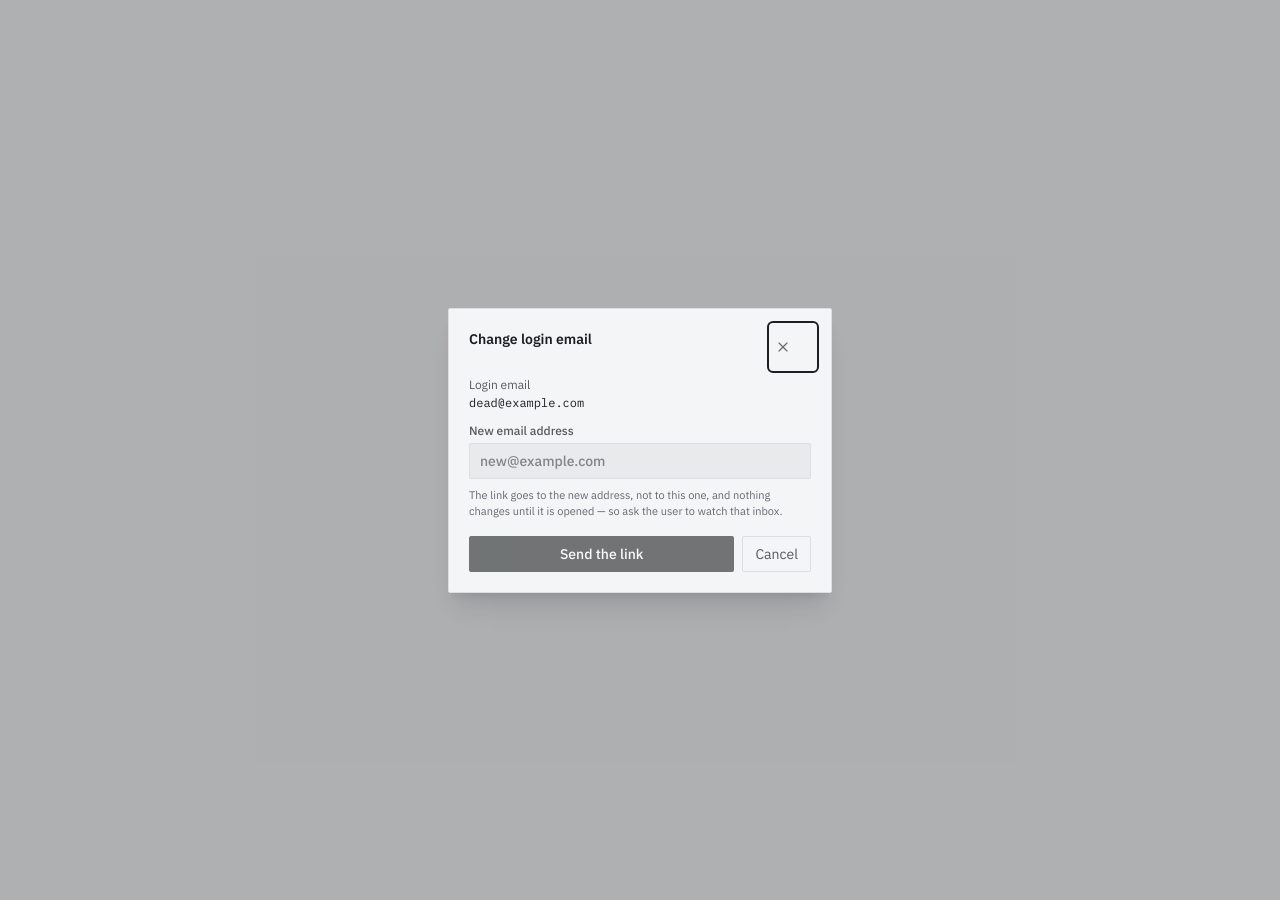
Scenario: keeps the form and the typed address when the server refuses it
The width and height of the screenshot is (1280, 900).
Type "moved@example.com" into the field with test id "change-email-input" at x=640, y=460, box [469,442,811,478]
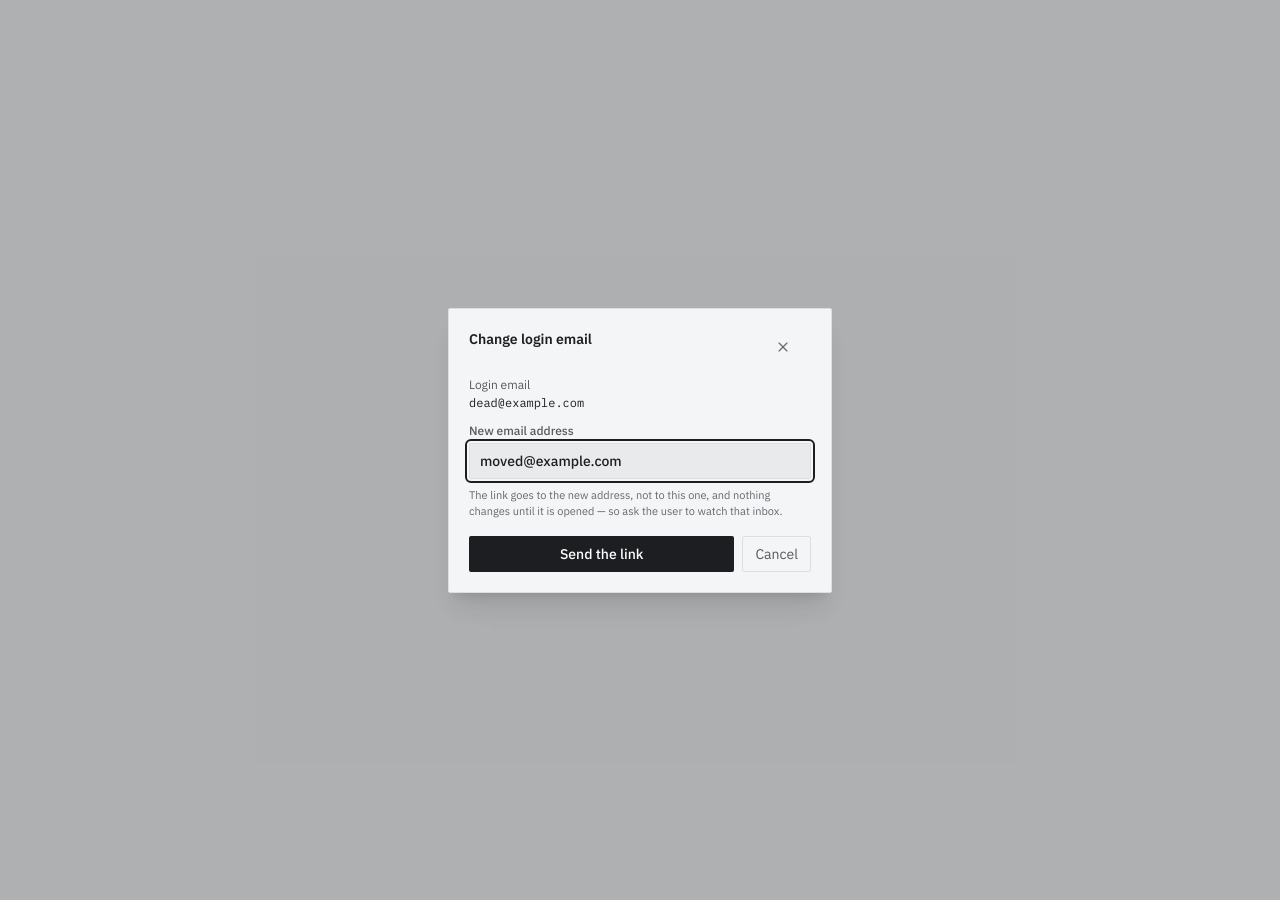
Click the button with test id "confirm-change-email" at x=602, y=554, box [469,536,734,572]
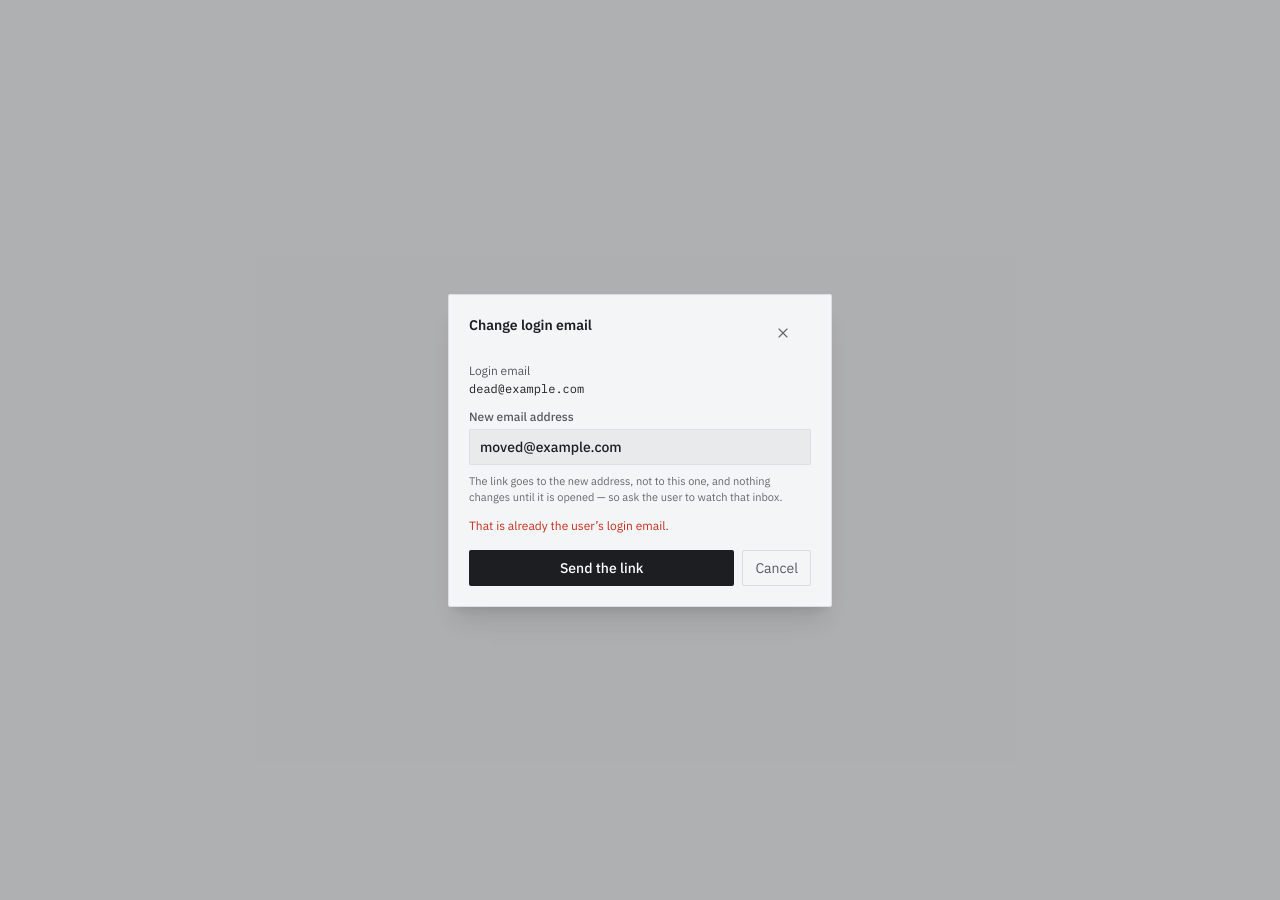
Check: the message shows "already the user’s login email", box [469,518,669,532]
